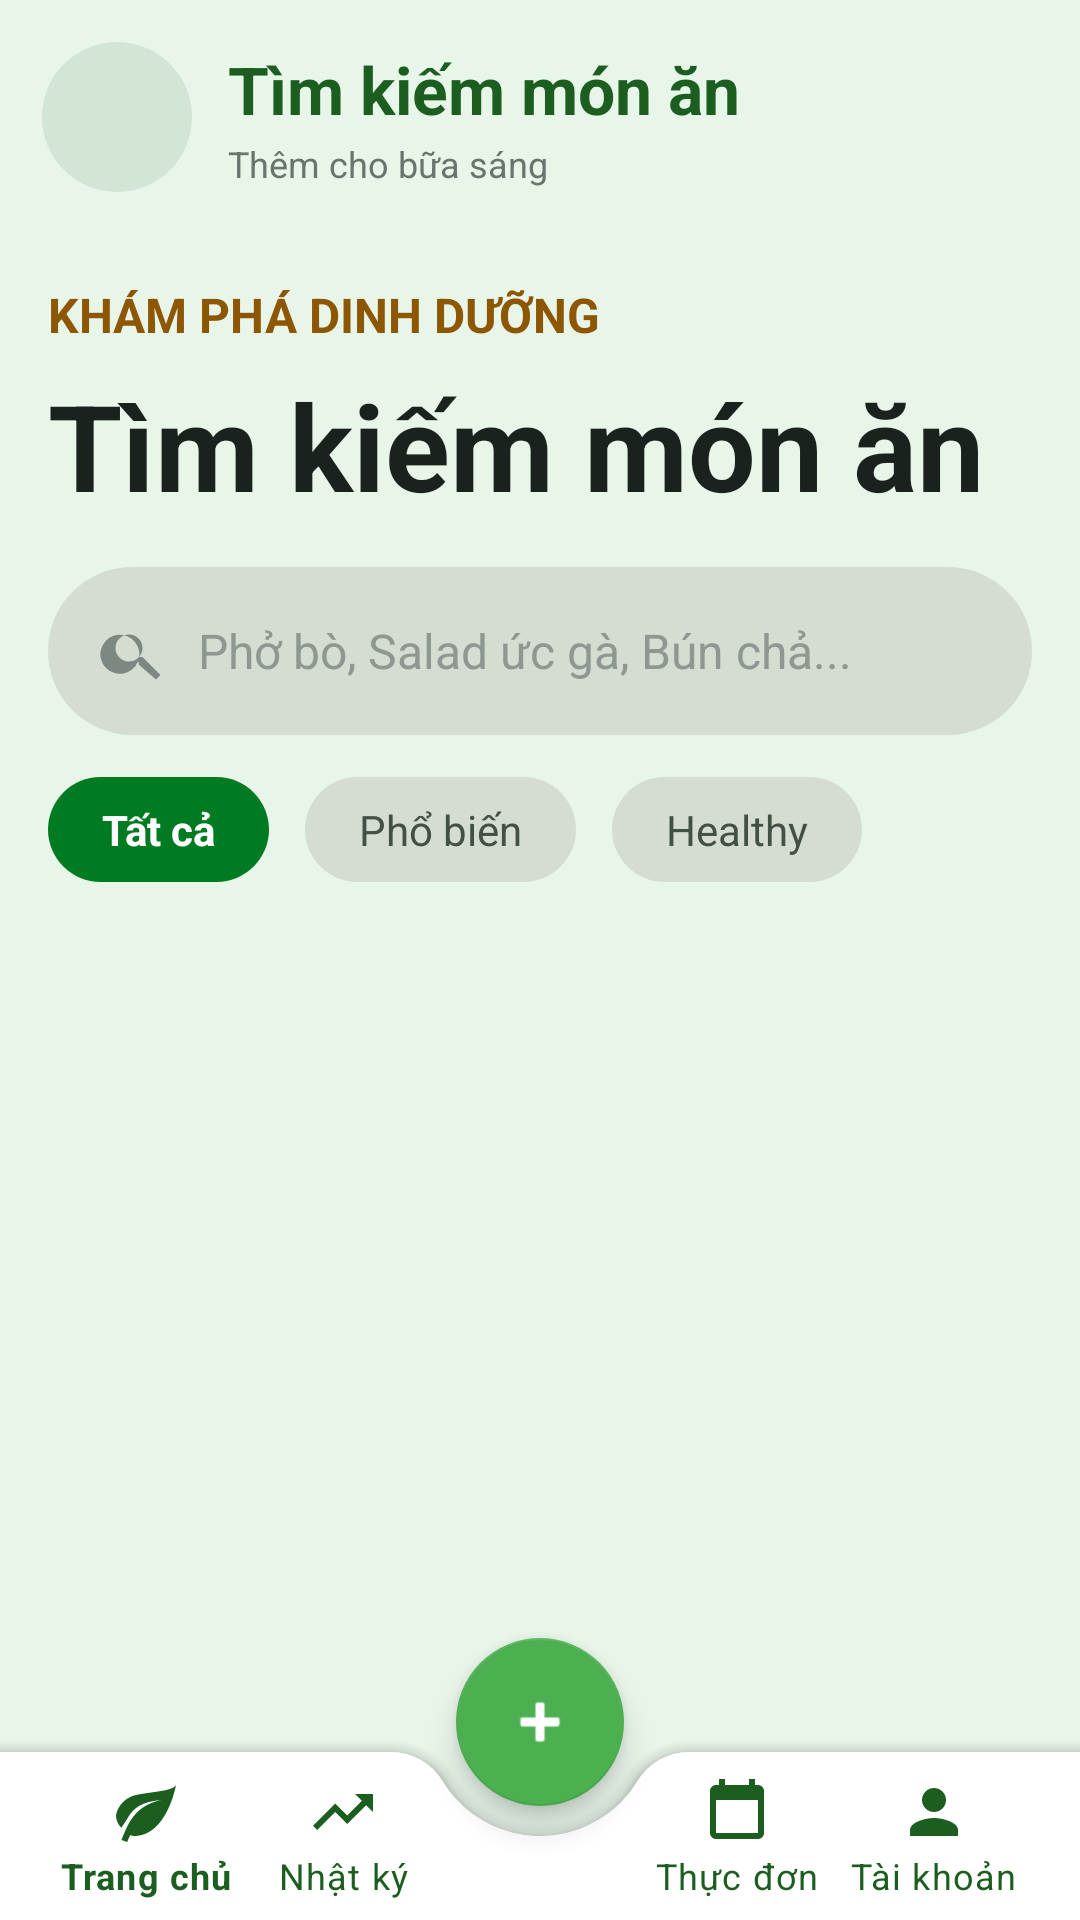

Where to tap for icons on this 1080×1920 app screen, as point (x, y):
search: point (130, 656)
Thêm món ăn mới: point (540, 1752)
